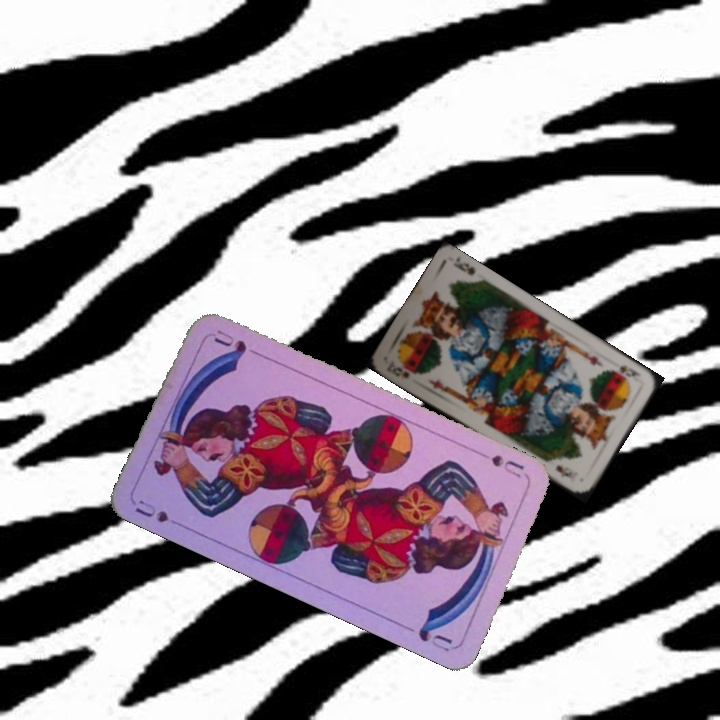SK: (606, 361, 642, 383), (384, 357, 412, 381)
SU: (130, 496, 188, 531), (475, 448, 531, 481)
